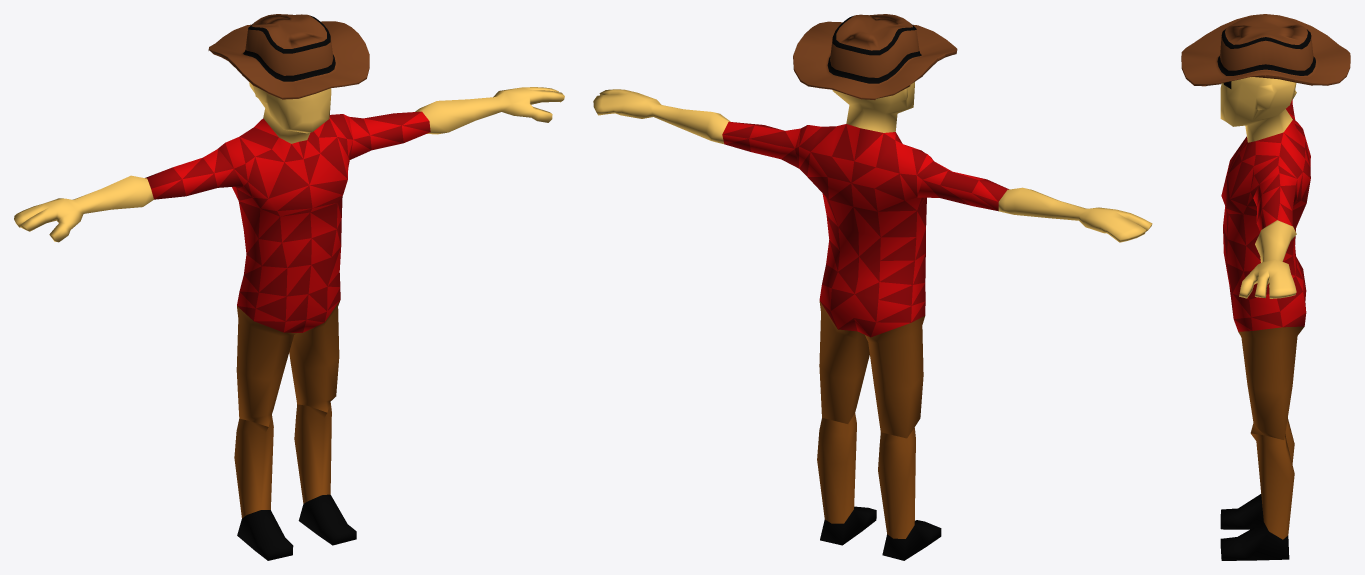
The model's file is Characters1.fbx.
3 views of the same model, side by side, from view 1: azimuth 30°, elevation 25°; view 2: azimuth 150°, elevation 25°; view 3: azimuth 270°, elevation 25° (orthographic).
Visible parts, largest first — view 1: Character_Male_Face_01, Circle, Character_Male_Face_01.005, Character_Male_Face_01.004, Character_Male_Face_01.007, Character_Male_Face_01.010, Character_Male_Face_01.003, Character_Male_Face_01.002, Character_Male_Face_01.009, Character_Male_Face_01.001, Character_Male_Face_01.008; view 2: Character_Male_Face_01, Circle, Character_Male_Face_01.007, Character_Male_Face_01.004, Character_Male_Face_01.005, Character_Male_Face_01.010, Character_Male_Face_01.003, Character_Male_Face_01.002, Character_Male_Face_01.009, Character_Male_Face_01.008, Character_Male_Face_01.001; view 3: Character_Male_Face_01, Circle, Character_Male_Face_01.010, Character_Male_Face_01.004, Character_Male_Face_01.001, Character_Male_Face_01.002, Character_Male_Face_01.008, Character_Male_Face_01.005.
Part boxes in pixels (x1,y1,x2,y2): Character_Male_Face_01: (218, 114, 353, 332); Circle: (208, 14, 369, 99); Character_Male_Face_01.005: (234, 415, 293, 560); Character_Male_Face_01.004: (294, 402, 356, 545); Character_Male_Face_01.007: (236, 306, 297, 426); Character_Male_Face_01.010: (289, 300, 340, 412); Character_Male_Face_01.003: (14, 175, 153, 242); Character_Male_Face_01.002: (415, 87, 564, 134); Character_Male_Face_01.009: (145, 149, 243, 199); Character_Male_Face_01.001: (249, 82, 331, 143); Character_Male_Face_01.008: (349, 111, 430, 159); Character_Male_Face_01: (795, 124, 933, 337); Circle: (793, 14, 957, 100); Character_Male_Face_01.007: (865, 316, 924, 438); Character_Male_Face_01.004: (817, 413, 876, 545); Character_Male_Face_01.005: (878, 427, 941, 560); Character_Male_Face_01.010: (819, 301, 869, 423); Character_Male_Face_01.003: (998, 187, 1152, 242); Character_Male_Face_01.002: (593, 89, 730, 143); Character_Male_Face_01.009: (917, 161, 1009, 211); Character_Male_Face_01.008: (722, 121, 800, 168); Character_Male_Face_01.001: (832, 82, 914, 132); Character_Male_Face_01: (1221, 118, 1310, 331); Circle: (1181, 14, 1350, 86); Character_Male_Face_01.010: (1238, 326, 1304, 439); Character_Male_Face_01.004: (1220, 433, 1294, 560); Character_Male_Face_01.001: (1220, 77, 1296, 142); Character_Male_Face_01.002: (1239, 220, 1296, 298); Character_Male_Face_01.008: (1253, 173, 1296, 231); Character_Male_Face_01.005: (1220, 418, 1294, 529).
Size of the model in its own units: 20475 by 18457 by 5520.
